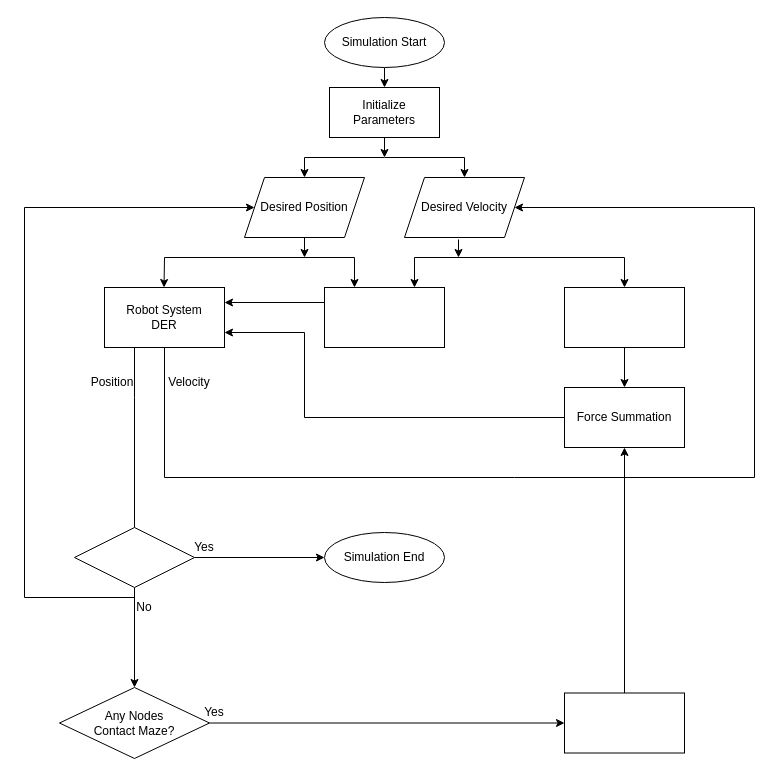
Some shapes in this 780 by 776 pixel diagram are drawn without their labels. The shapes that lost their labels are listed below. From the top down, each one's centre as x and y in pixels, then its label:
[384,317]: PD Controllers
[624,317]: Viscosious Force Computation
[134,557]: Reach Position?
[624,722]: Contact Force Computation
